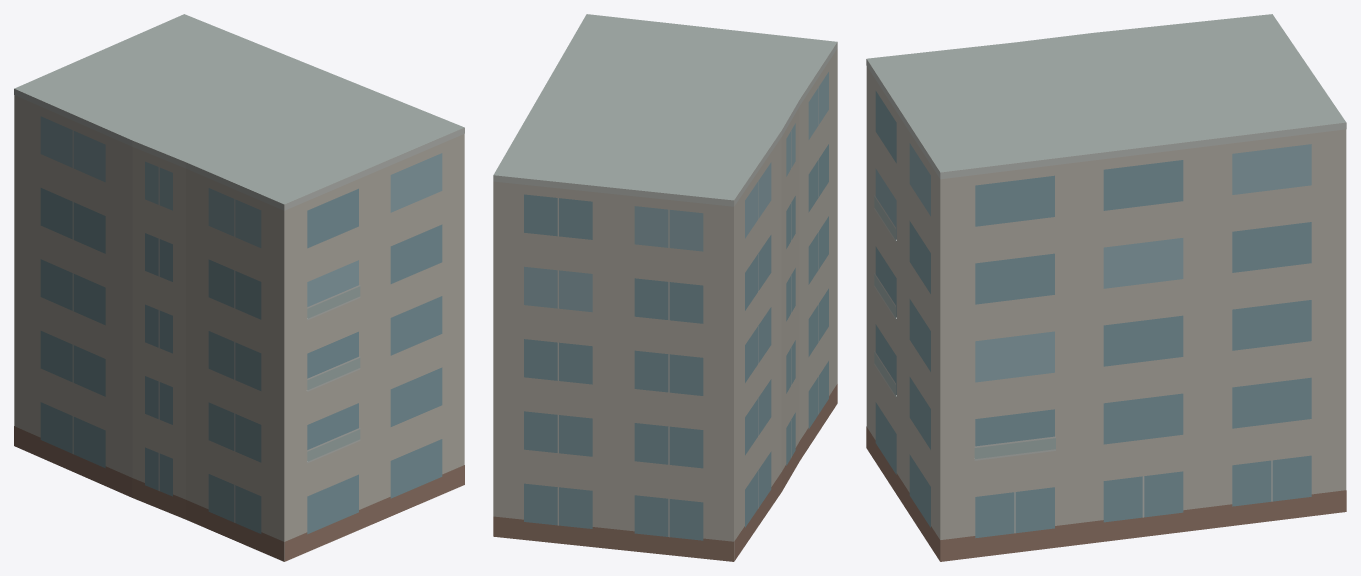
Rendered from survey-upis-32923536.glb.
3 renders of one model, left to right at view 1: azimuth 30°, elevation 25°; view 2: azimuth 150°, elevation 25°; view 3: azimuth 270°, elevation 25°, orthographic. The views are drawn at different scales.
Parts seen in each view (by area): view 1: survey-upis-32923536.tmp; view 2: survey-upis-32923536.tmp; view 3: survey-upis-32923536.tmp.
Boxes of the visible parts, x1,y1,x2,y2 form: survey-upis-32923536.tmp: [14, 14, 464, 561]; survey-upis-32923536.tmp: [493, 14, 837, 561]; survey-upis-32923536.tmp: [866, 14, 1346, 561].
Size of the model in its own units: 12.24 by 14 by 15.65.
